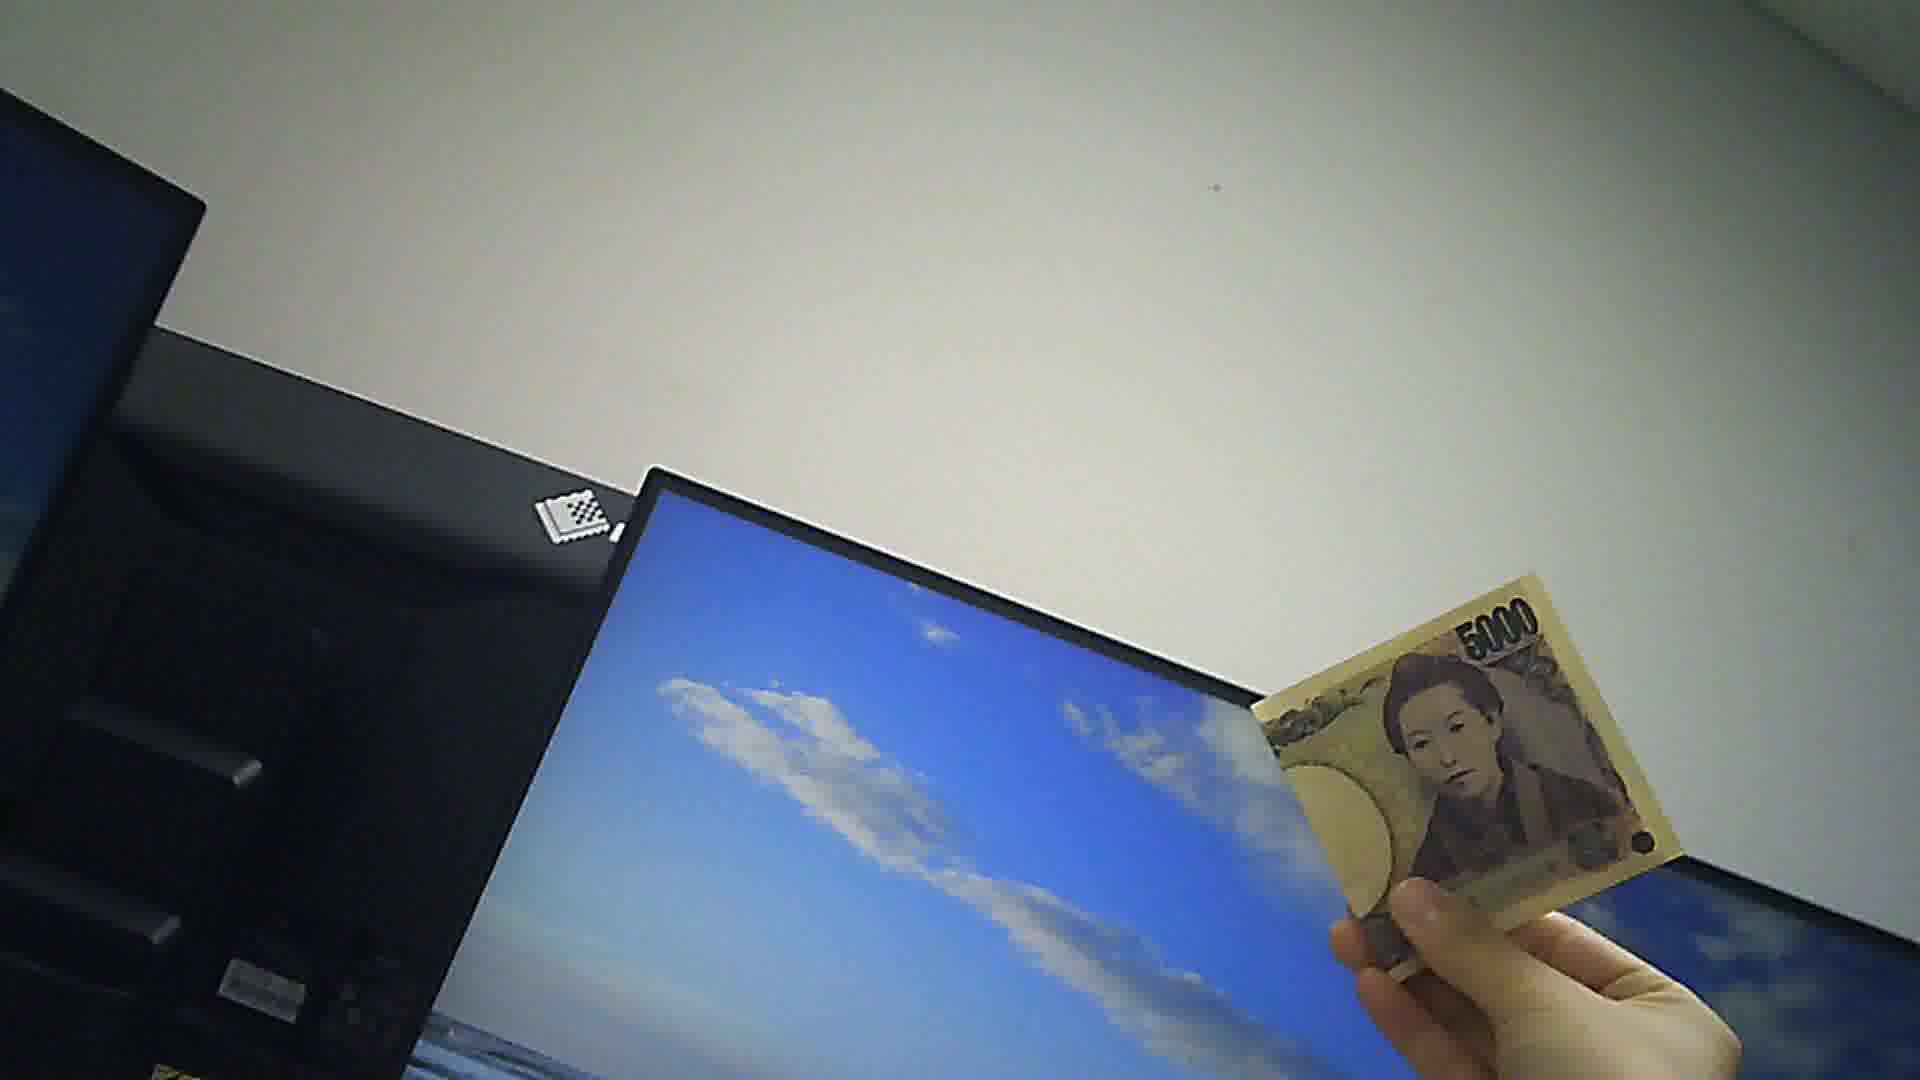5,000 Yen: (1233, 564, 1687, 980)
